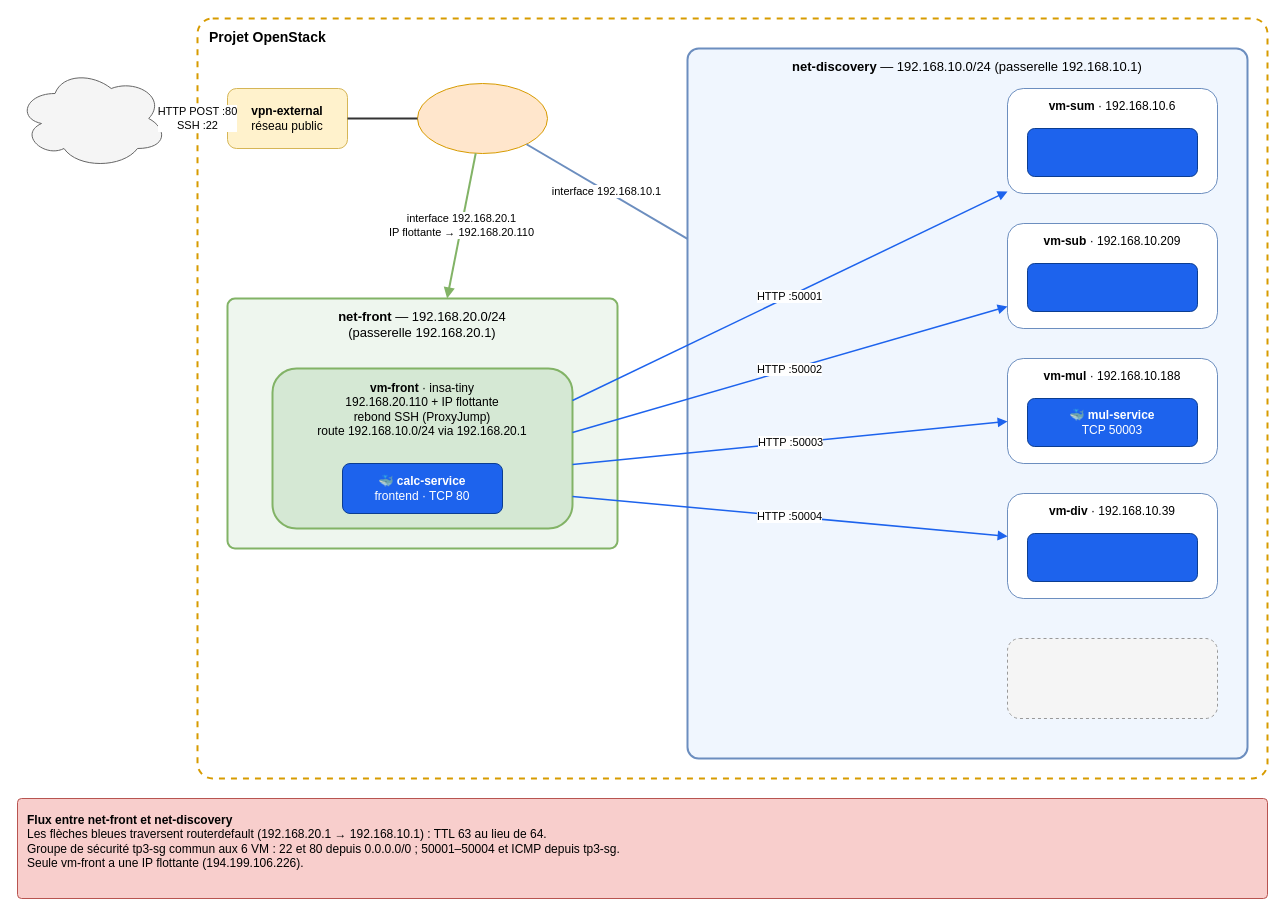
Image size: 1286x916. Some labels were removed from this diagram. The shapes that lost their labels are listed below. From the top down, each one's centre as x and y in pixels, then its label:
At pixel 92 118: "PC utilisateur (Internet)".
At pixel 482 118: "routerdefault".
At pixel 1112 152: "🐳 sum-service TCP 50001".
At pixel 1112 287: "🐳 sub-service TCP 50002".
At pixel 1112 557: "🐳 div-service TCP 50004".
At pixel 1112 678: "vm-calc · 192.168.10.184 plus de conteneur (ancien frontend)".
